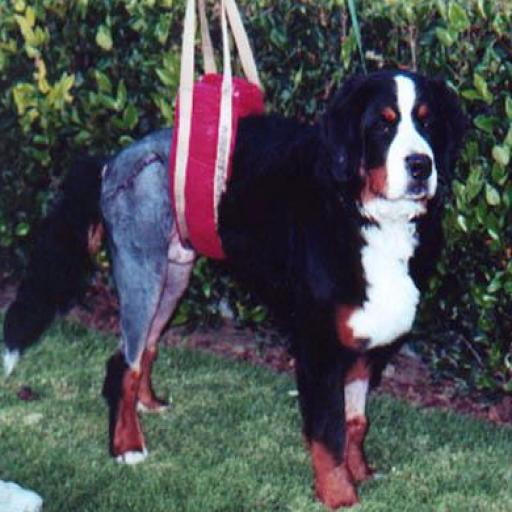dog_face: (328, 61, 458, 198)
